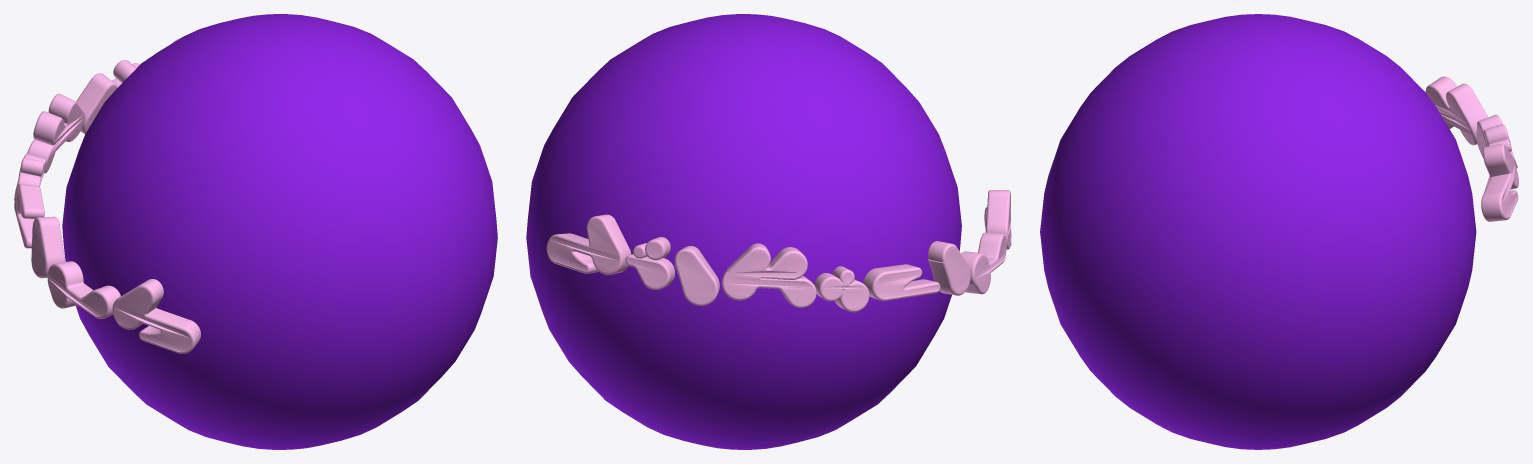
3 views of the same model, side by side, from view 1: azimuth 30°, elevation 25°; view 2: azimuth 150°, elevation 25°; view 3: azimuth 270°, elevation 25° (orthographic).
Visible parts, largest first — view 1: Sphere; view 2: Sphere; view 3: Sphere.
Part boxes in pixels (x1,y1,x2,y2): Sphere: (14, 14, 497, 449); Sphere: (526, 14, 1011, 449); Sphere: (1040, 14, 1518, 449).
Bounding box in the file's own units: 5.66 × 5.08 × 5.57.
